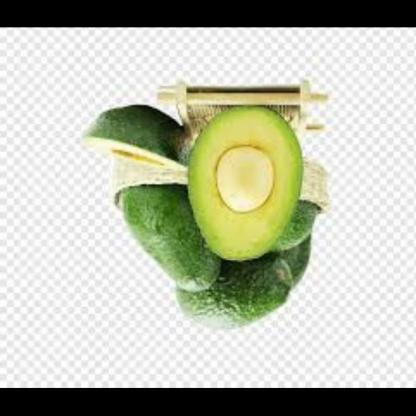avocado: (192, 102, 312, 252), (171, 257, 300, 356), (105, 193, 223, 297), (73, 90, 191, 186), (283, 193, 325, 290)
